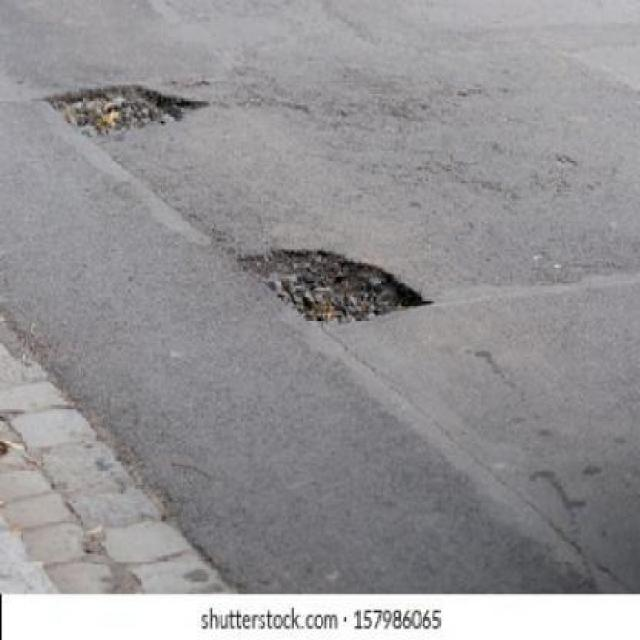Pothole: (233, 246, 436, 320), (44, 82, 207, 142)
